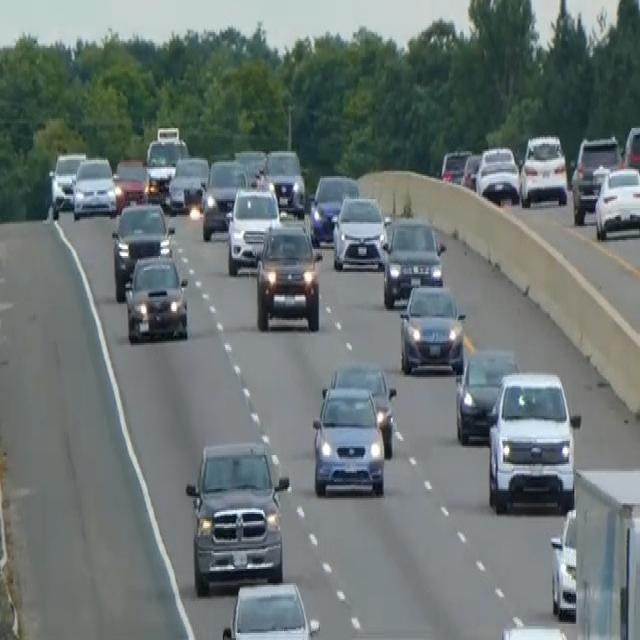car: (486, 368, 578, 514), (311, 382, 385, 498), (255, 220, 322, 330), (323, 361, 397, 455), (454, 345, 519, 444), (111, 199, 175, 299), (398, 281, 466, 375), (379, 213, 445, 306), (123, 251, 189, 343), (221, 580, 320, 638), (225, 183, 280, 276), (570, 133, 621, 224), (331, 192, 386, 270), (200, 156, 248, 240), (519, 132, 568, 208), (309, 170, 359, 243), (593, 164, 639, 240), (549, 506, 577, 620), (262, 146, 306, 217), (72, 154, 116, 218), (475, 144, 520, 204), (167, 153, 209, 213), (50, 149, 86, 210), (112, 156, 147, 212), (233, 146, 266, 187), (439, 146, 471, 185), (498, 622, 571, 638), (623, 122, 639, 178), (460, 151, 481, 190)
jeep: (184, 437, 291, 594), (142, 121, 188, 203)
lorry: (571, 462, 639, 638)
